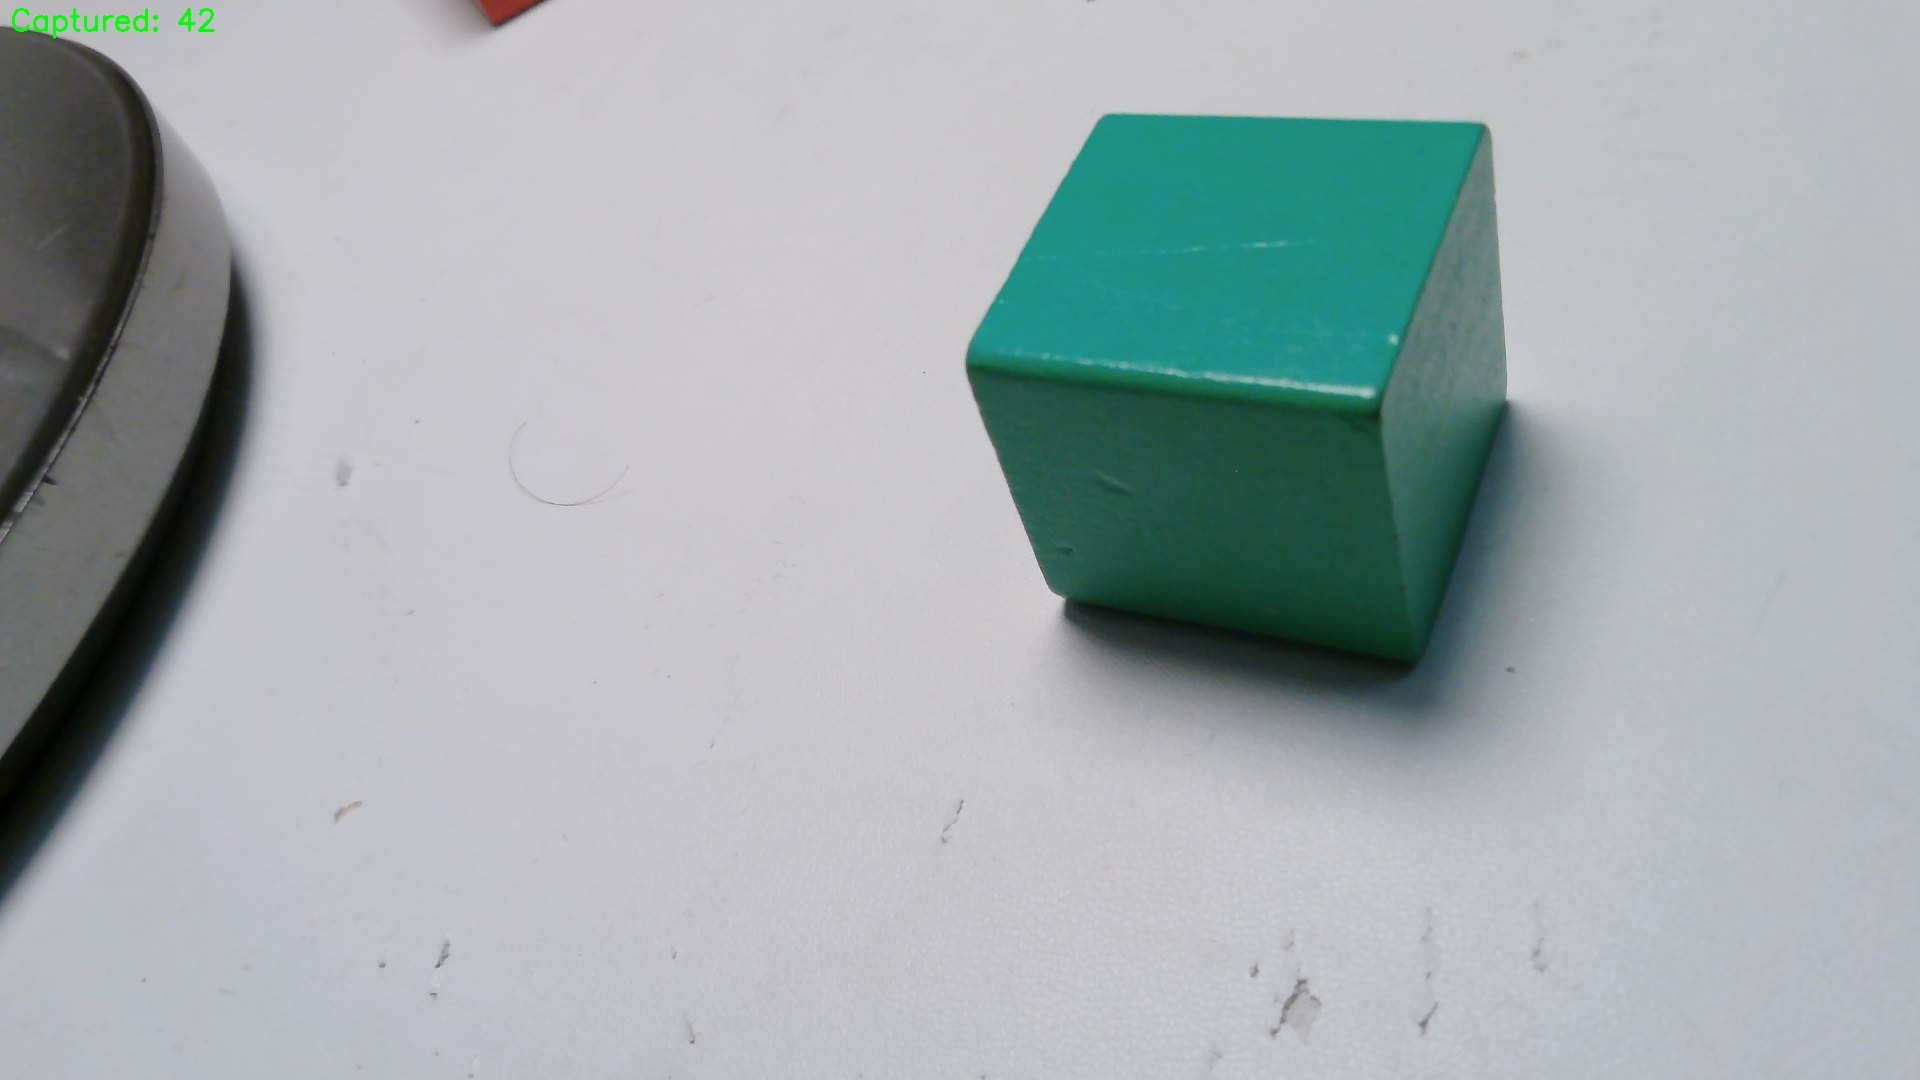green: (971, 111, 1511, 676)
